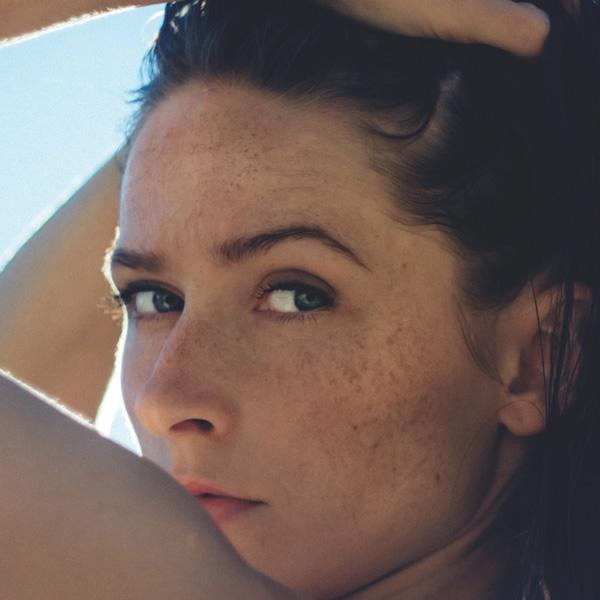Eyes: (245, 262, 342, 331), (114, 274, 194, 331)
